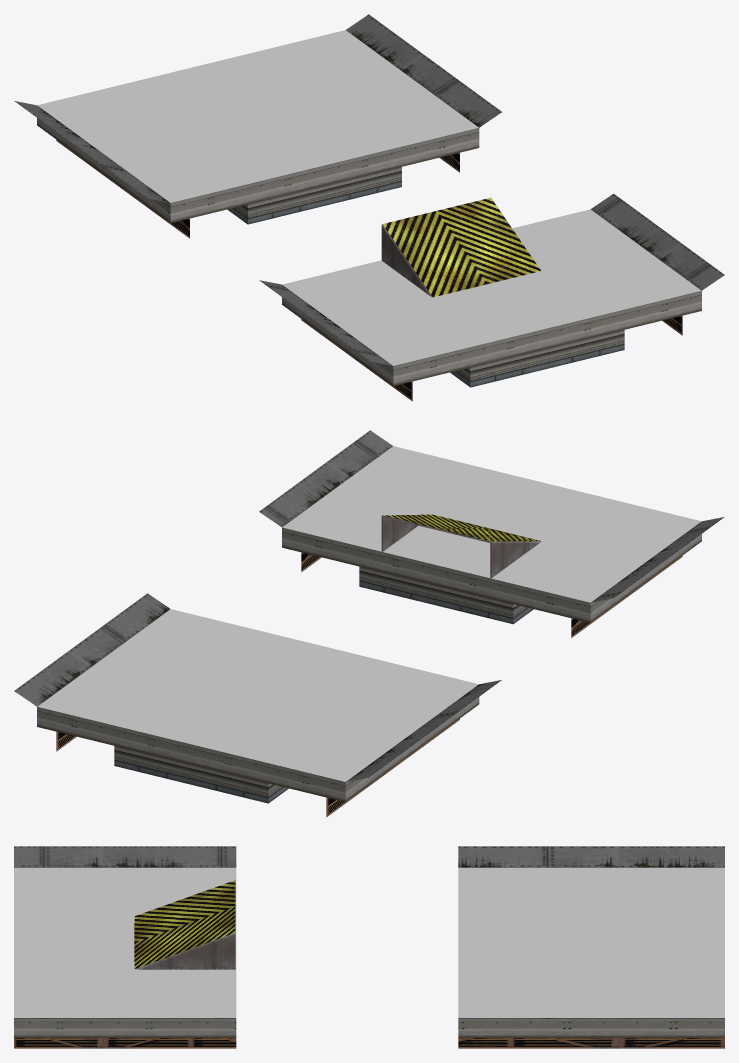
File: StrGapA.fbx
3 views of the same model, one above another, from view 1: azimuth 30°, elevation 25°; view 2: azimuth 150°, elevation 25°; view 3: azimuth 270°, elevation 25° (orthographic).
Visible parts, largest first — view 1: Empty_Mesh; view 2: Empty_Mesh; view 3: Empty_Mesh.
Boxes of the visible parts, x1,y1,x2,y2 form: Empty_Mesh: [14, 14, 724, 401]; Empty_Mesh: [14, 430, 724, 817]; Empty_Mesh: [14, 846, 724, 1048].
Bounding box in the file's own units: 18.4 × 3.81 × 32.
